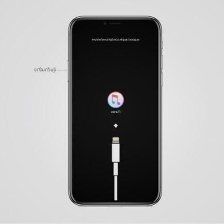phone: (63, 13, 167, 211)
